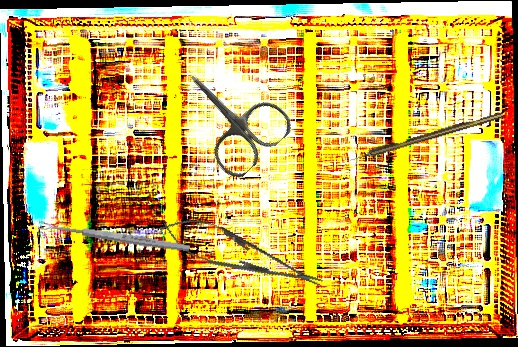Hook Surgical: (347, 111, 505, 163)
Iris Scissors: (161, 46, 298, 184)
Needle Holder: (154, 206, 330, 304)
Surgical Spoon: (37, 219, 191, 254)
